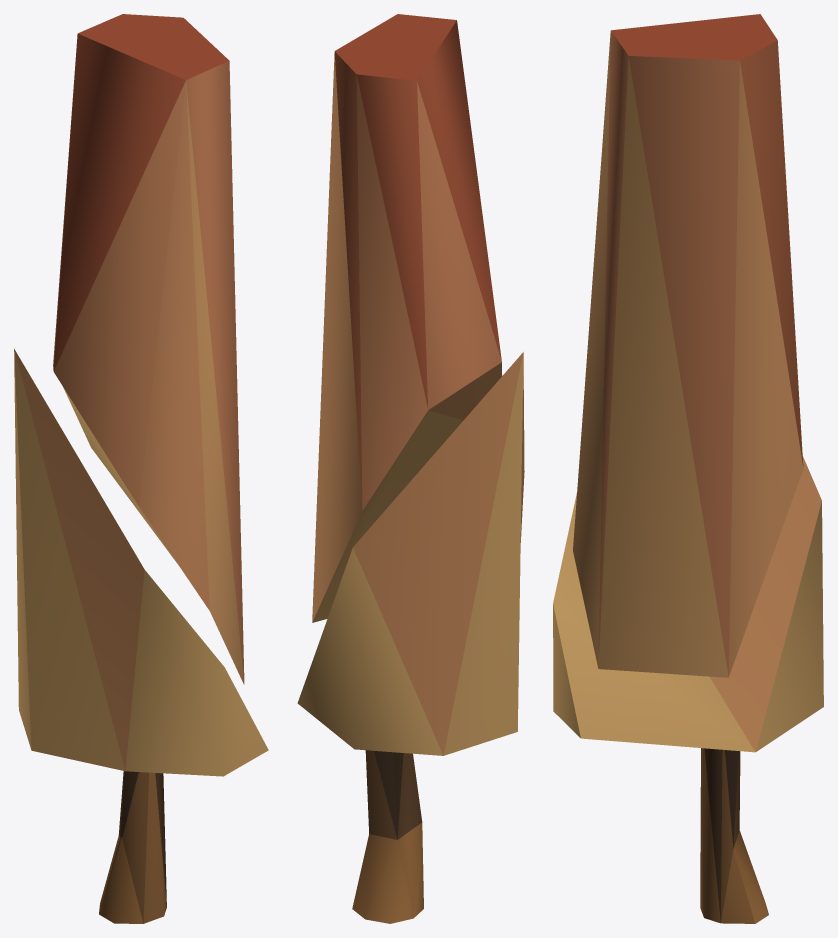
Rendered from angular_tree_spire__summer_low.glb.
3 views of the same model, side by side, from view 1: azimuth 30°, elevation 25°; view 2: azimuth 150°, elevation 25°; view 3: azimuth 270°, elevation 25° (orthographic). The views are drawn at different scales.
Bounding box in the file's own units: 1.37 × 5.4 × 1.51.
